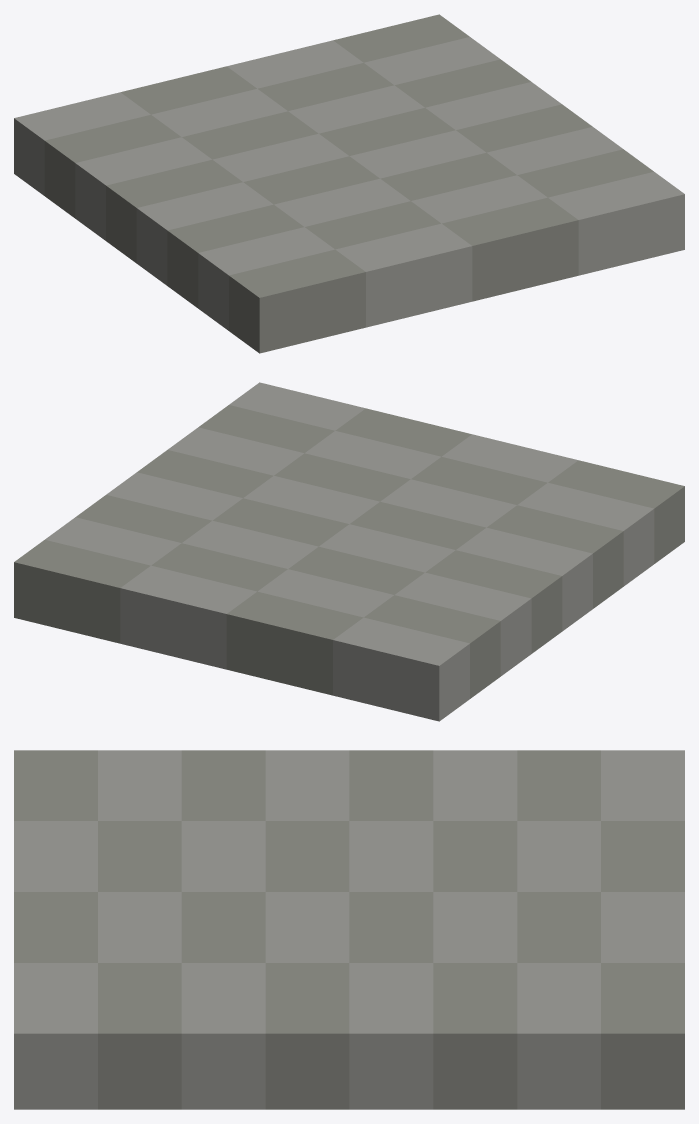
File: carpet_light_gray_model.glb
The picture shows the model from 3 angles, top to bottom: view 1: azimuth 30°, elevation 25°; view 2: azimuth 150°, elevation 25°; view 3: azimuth 270°, elevation 25°; orthographic projection. The views are drawn at different scales.
Parts seen in each view (by area): view 1: Untitled; view 2: Untitled; view 3: Untitled.
Boxes of the visible parts, bbox=[...] form: Untitled: bbox=[14, 14, 684, 353]; Untitled: bbox=[14, 382, 684, 721]; Untitled: bbox=[14, 750, 684, 1109].
Size of the model in its own units: 0.8 by 0.1 by 0.8.
Materials: 1 (1 with a texture image).
